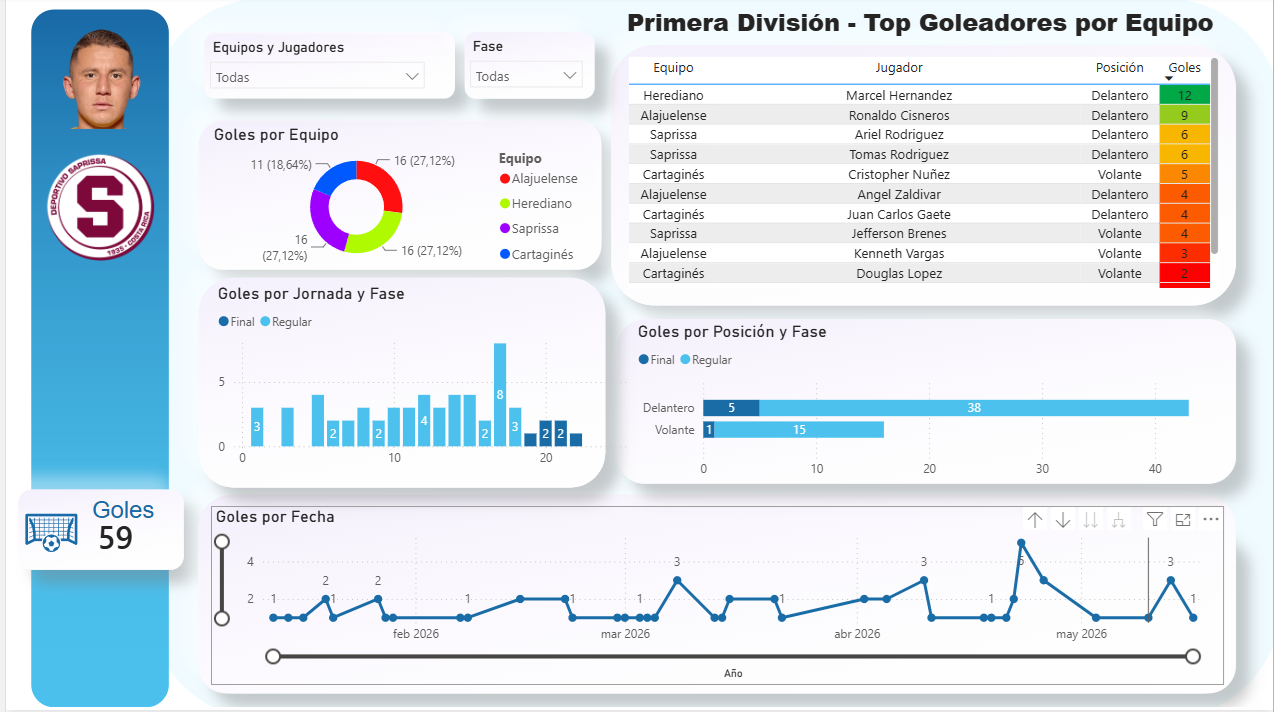

This screenshot's page, from the dashboard's own definition file:
{"tool":"powerbi","page":{"name":"Página 1","canvas":[1280,720],"ordinal":0},"visuals":[{"type":"simpleImageEBC4593F96F1425FB3D84C5BF02B5075","fields":{"imageURL":["liga_tica equipos.imagen_url"]},"box":[33.8,151.2,123.8,137.5],"z":0},{"type":"slicer","fields":{"Values":["liga_tica equipos.nombre","liga_tica jugadores.nombre"]},"box":[196,37.3,237.3,62],"z":1000},{"type":"cardVisual","title":"Goles","fields":{"Data":["CountNonNull(liga_tica goles.id_gol)"]},"box":[63.9,491.3,161.5,104.5],"z":2000},{"type":"simpleImageEBC4593F96F1425FB3D84C5BF02B5075","fields":{"imageURL":["liga_tica jugadores.imagen_url"]},"box":[42.5,27.5,108.8,111.2],"z":3000},{"type":"slicer","fields":{"Values":["liga_tica goles.fase"]},"box":[458.7,36.7,134,59.3],"z":4000},{"type":"lineChart","title":"Goles por Fecha","fields":{"Y":["CountNonNull(liga_tica goles.id_gol)"],"Category":["liga_tica goles.fecha.Variación.Jerarquía de fechas.Año","liga_tica goles.fecha.Variación.Jerarquía de fechas.Trimestre","liga_tica goles.fecha.Variación.Jerarquía de fechas.Mes","liga_tica goles.fecha.Variación.Jerarquía de fechas.Día"]},"box":[206.8,514.6,1023.3,180],"z":5000},{"type":"donutChart","title":"Goles por Equipo","fields":{"Category":["liga_tica equipos.nombre"],"Y":["CountNonNull(liga_tica goles.id_gol)"]},"box":[204.7,128.7,386.7,148.7],"z":6000},{"type":"tableEx","fields":{"Values":["liga_tica equipos.nombre","liga_tica jugadores.nombre","liga_tica jugadores.posicion","CountNonNull(liga_tica goles.id_gol)"]},"box":[623.7,55.8,607.5,242.8],"z":7000},{"type":"barChart","title":"Goles por Posición y Fase","fields":{"Y":["CountNonNull(liga_tica goles.id_gol)"],"Series":["liga_tica goles.fase"],"Category":["liga_tica jugadores.posicion"]},"box":[633.8,327.5,596.2,167.5],"z":8000},{"type":"columnChart","title":"Goles por Jornada y Fase","fields":{"Category":["liga_tica goles.jornada"],"Y":["CountNonNull(liga_tica goles.id_gol)"],"Series":["liga_tica goles.fase"]},"box":[208.8,288.8,425,195],"z":9000},{"type":"textbox","box":[600.5,3.5,647,59.2],"z":10000}]}

Visuals, with their boxes in screenshot pixels (x1, y1, x2, y2), scaled from the page's 1280x720 canvas onto the 1274x712 screenshot:
simpleImageEBC4593F96F1425FB3D84C5BF02B5075 - liga_tica equipos.imagen_url: {"x1": 34, "y1": 150, "x2": 157, "y2": 285}
slicer - liga_tica equipos.nombre x liga_tica jugadores.nombre: {"x1": 195, "y1": 37, "x2": 431, "y2": 98}
"Goles" cardVisual: {"x1": 64, "y1": 486, "x2": 224, "y2": 589}
simpleImageEBC4593F96F1425FB3D84C5BF02B5075 - liga_tica jugadores.imagen_url: {"x1": 42, "y1": 27, "x2": 151, "y2": 137}
slicer - liga_tica goles.fase: {"x1": 457, "y1": 36, "x2": 590, "y2": 95}
"Goles por Fecha" lineChart: {"x1": 206, "y1": 509, "x2": 1224, "y2": 687}
"Goles por Equipo" donutChart: {"x1": 204, "y1": 127, "x2": 589, "y2": 274}
tableEx - liga_tica equipos.nombre x liga_tica jugadores.nombre: {"x1": 621, "y1": 55, "x2": 1225, "y2": 295}
"Goles por Posición y Fase" barChart: {"x1": 631, "y1": 324, "x2": 1224, "y2": 490}
"Goles por Jornada y Fase" columnChart: {"x1": 208, "y1": 286, "x2": 631, "y2": 478}
textbox: {"x1": 598, "y1": 3, "x2": 1242, "y2": 62}
